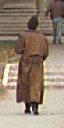person: (14, 14, 52, 121)
